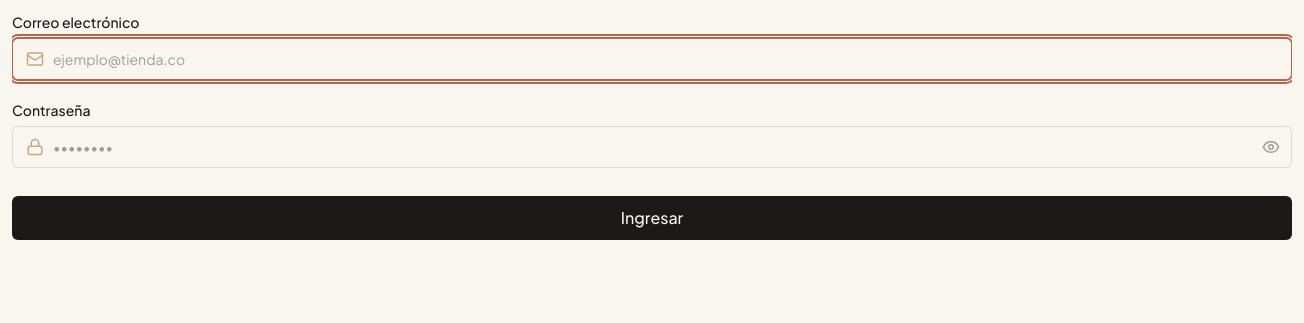
Scenario: Auth Feature (sección 5 y sección 8 de 20-frontend-auth.md) › INVALID_CREDENTIALS muestra mensaje general y vacía el campo de contraseña
Type "ana@tienda.co" into the field labelled "Correo electrónico" at coordinates (652, 59), box [12,38,1292,80]
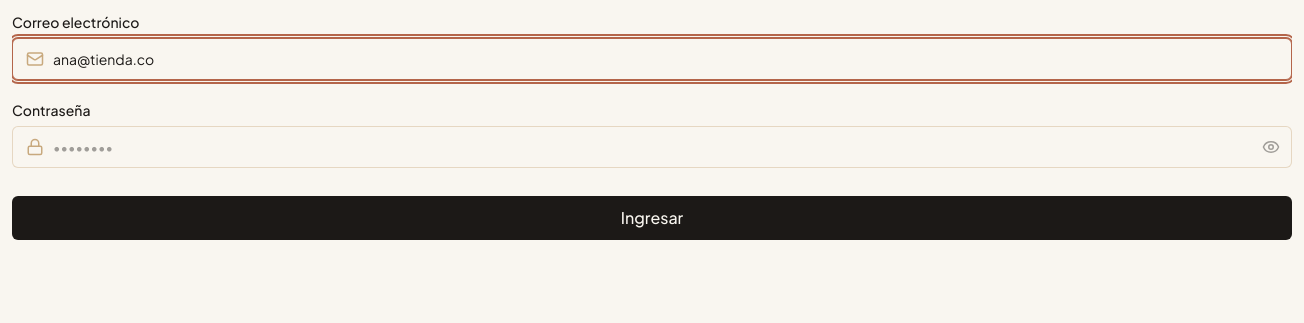
Type "claveerronea" into the password field labelled "Contraseña" at coordinates (652, 147), box [12,126,1292,168]
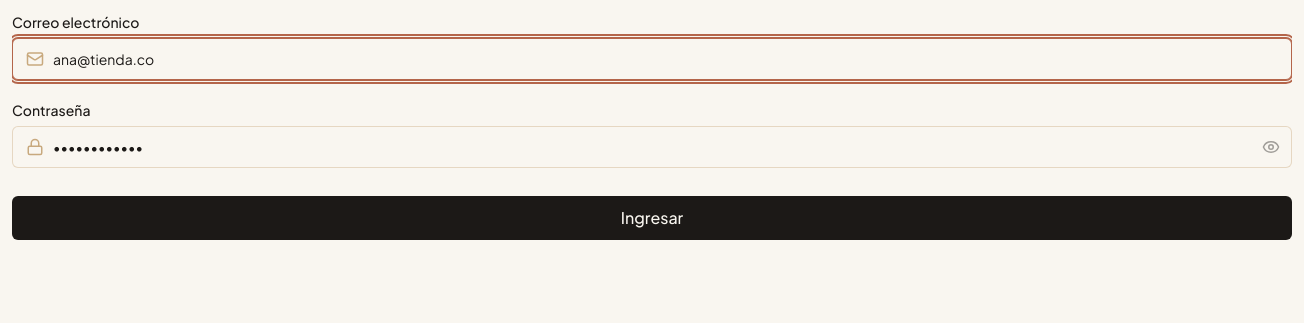
Click the button "Ingresar" at coordinates (652, 218), box [12,196,1292,240]
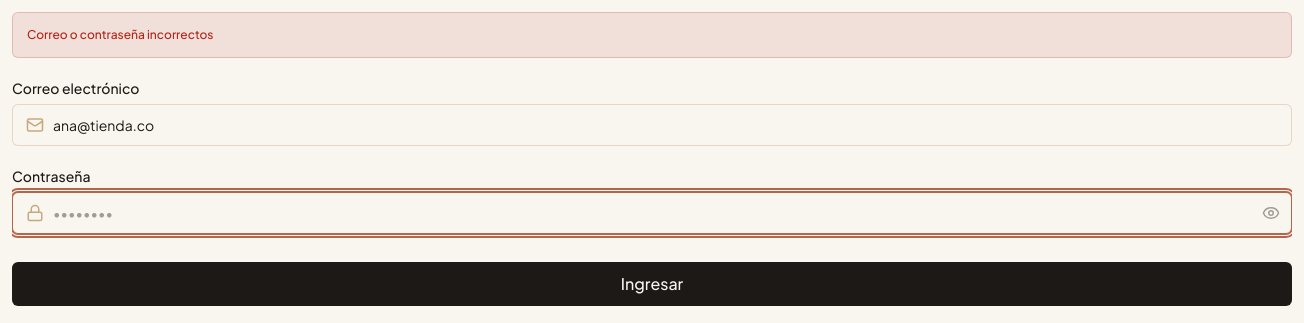
Now the text "Correo o contraseña incorrectos" is shown, box [12,12,1292,58]
Now the password field labelled "Contraseña" is empty, box [12,192,1292,234]
